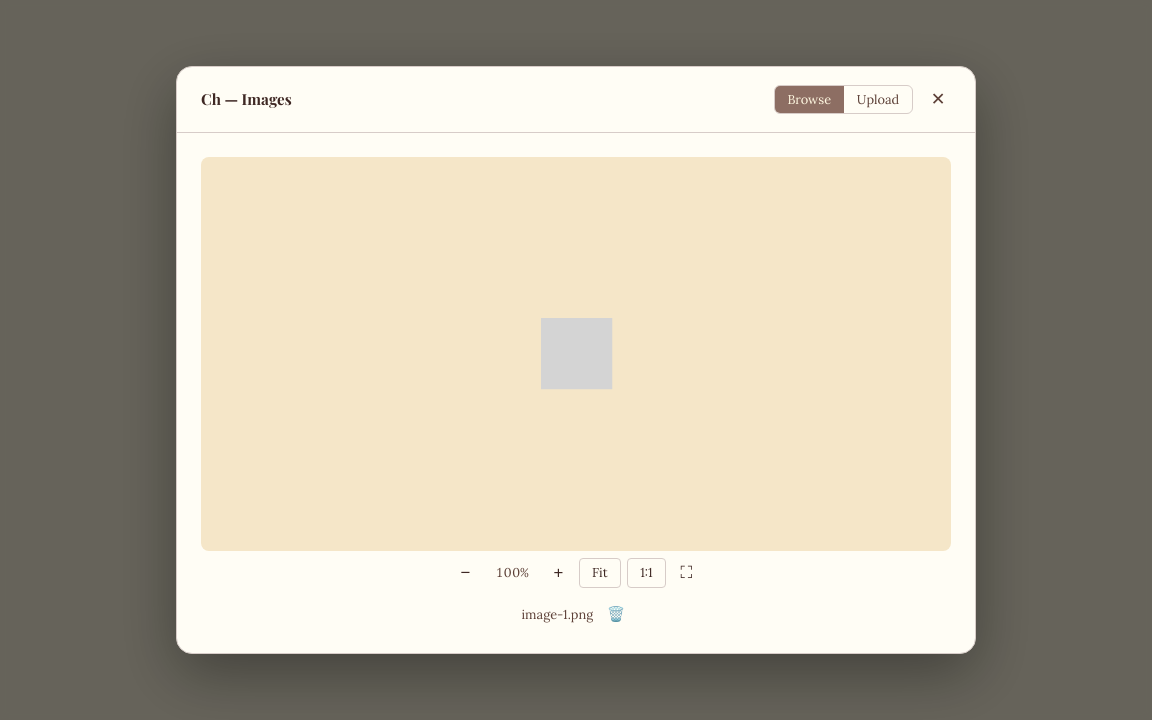
Scenario: ChapterImageViewer › asks before deleting an image
Check: the text "image-1.png" is shown, box [522,606,593,623]
Step 1. Click the button titled "Delete image" → (616, 615), box [601,600,630,629]
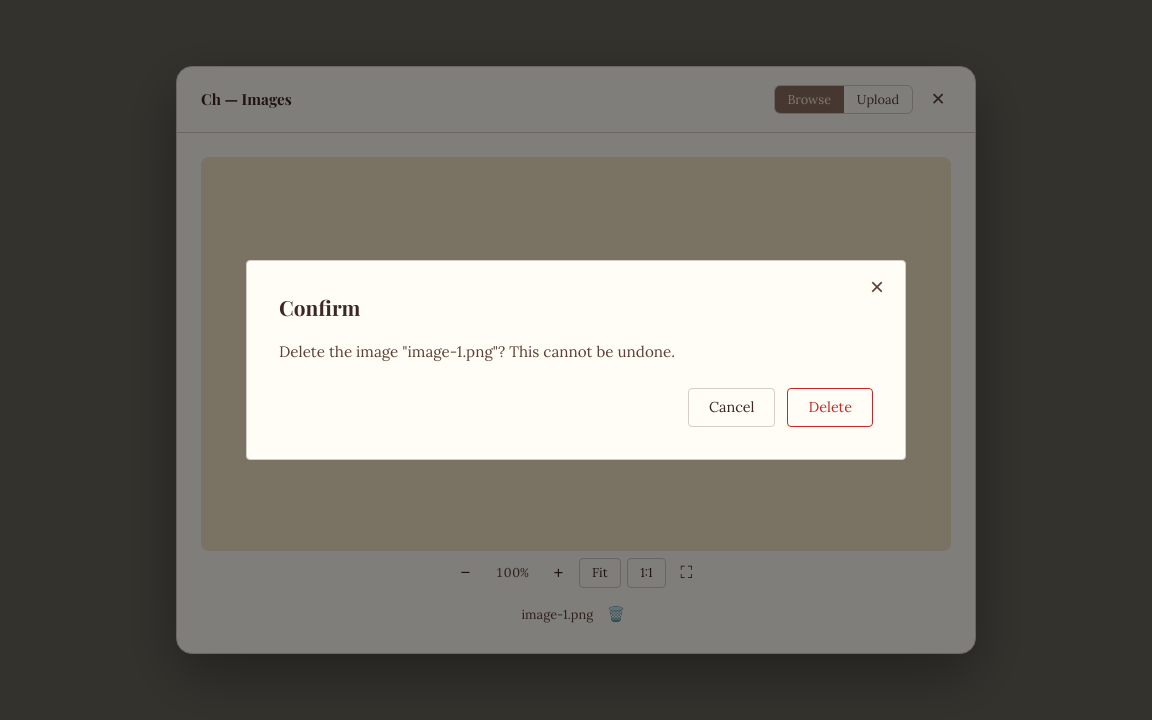
Check: the text "Delete the image \"image-1.png\"? This cannot be undone." is shown, box [279,342,675,361]
Step 2. Click the button "Cancel" → (732, 407), box [688,388,776,427]
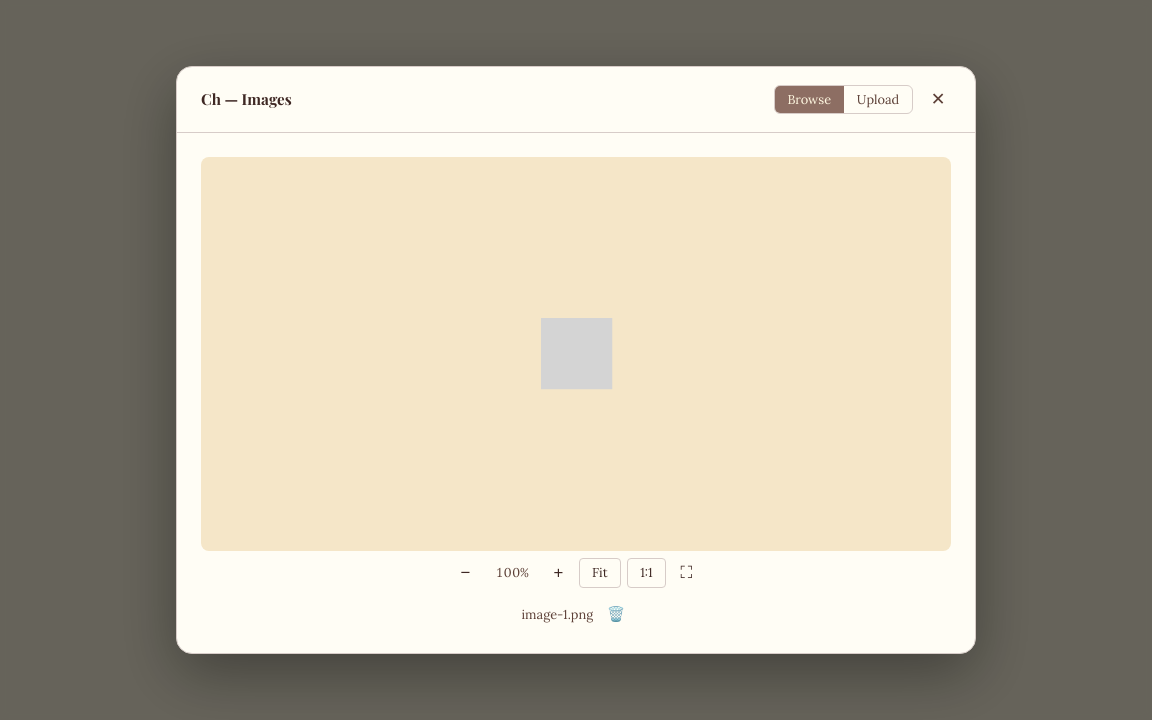
Check: the text "Delete the image" is gone
